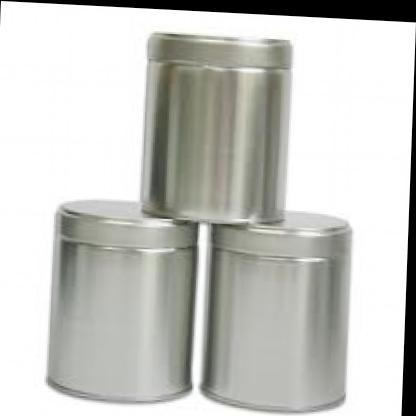trash: (48, 33, 350, 410), (48, 200, 196, 400), (202, 211, 350, 410), (141, 33, 290, 221)
